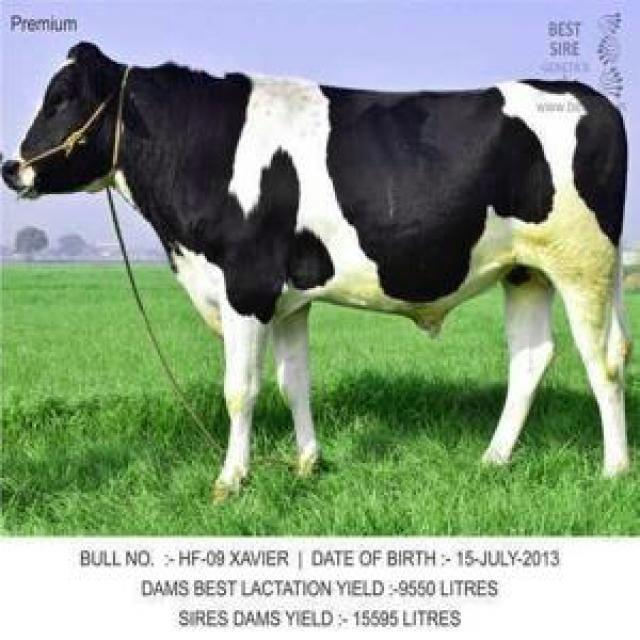cow: (4, 42, 629, 492)
